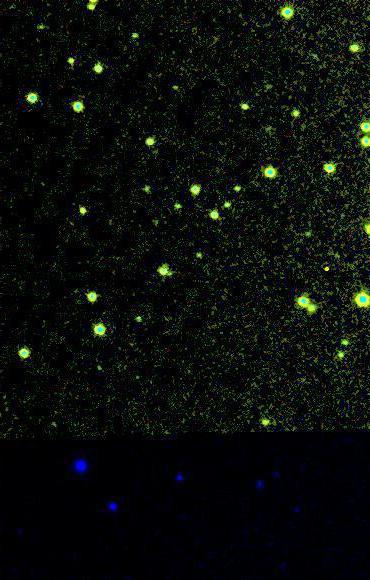star: (312, 253, 342, 283)
